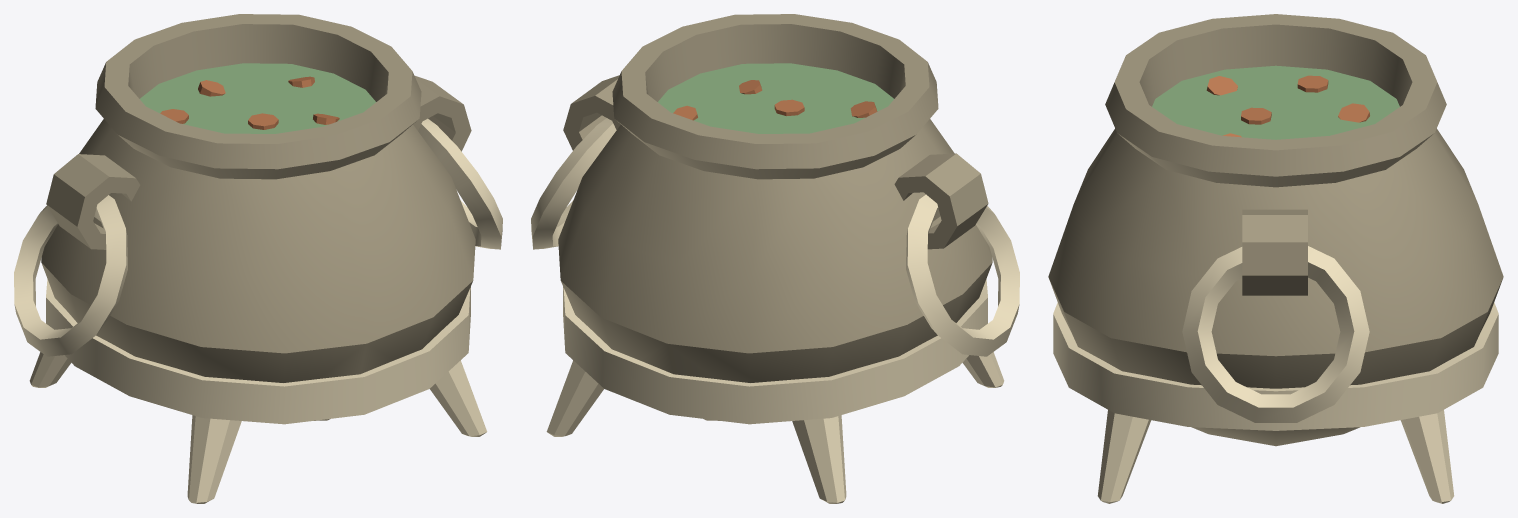
The model's file is cauldron-cream-sage.glb.
The picture shows the model from 3 angles, left to right: view 1: azimuth 30°, elevation 25°; view 2: azimuth 150°, elevation 25°; view 3: azimuth 270°, elevation 25°; orthographic projection. The views are drawn at different scales.
Parts seen in each view (by area): view 1: Cauldron; view 2: Cauldron; view 3: Cauldron.
Part boxes in pixels (bbox=[...]): Cauldron: bbox=[14, 14, 502, 503]; Cauldron: bbox=[531, 14, 1019, 503]; Cauldron: bbox=[1048, 14, 1503, 503].
Size of the model in its own units: 0.3607 by 0.2518 by 0.2988.
